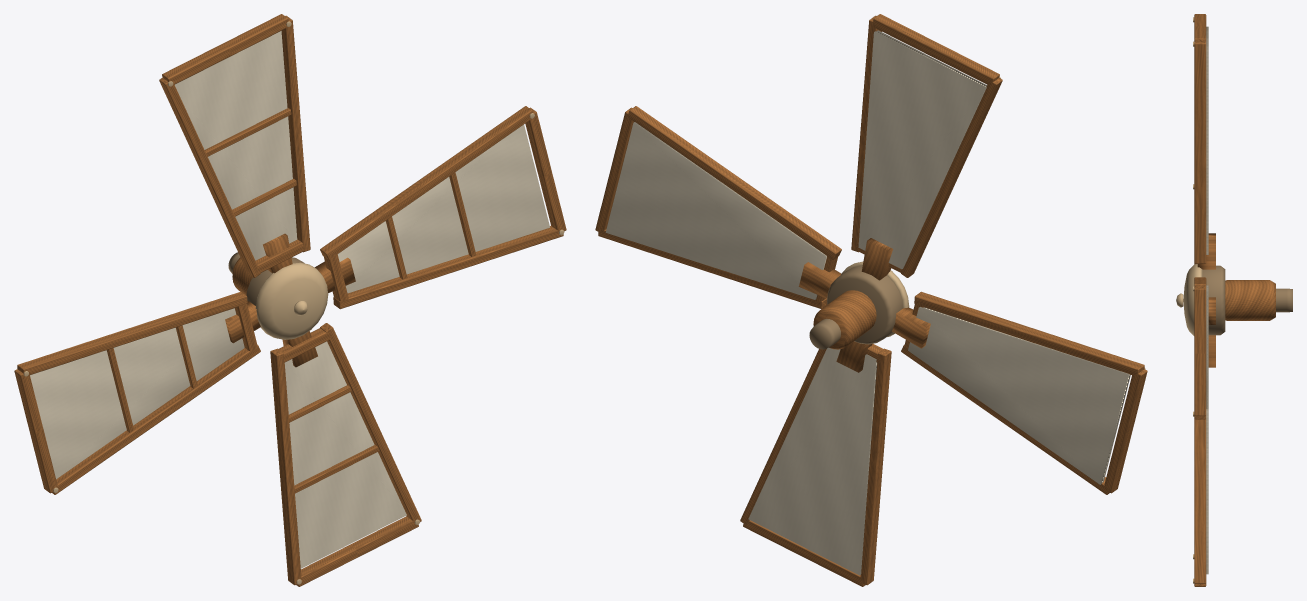
File: wind_rotor.glb
The picture shows the model from 3 angles, left to right: view 1: azimuth 30°, elevation 25°; view 2: azimuth 150°, elevation 25°; view 3: azimuth 270°, elevation 25°; orthographic projection. The views are drawn at different scales.
Visible parts, largest first — view 1: Canvas, Frame, Brass; view 2: Canvas, Frame, BrassDark; view 3: Frame, Canvas, BrassDark, Brass.
Part boxes in pixels (x1,y1,x2,y2): Canvas: (30, 31, 549, 568); Frame: (14, 14, 566, 586); Brass: (23, 21, 564, 584); Canvas: (605, 30, 1130, 575); Frame: (595, 14, 1147, 586); BrassDark: (809, 265, 903, 349); Frame: (1194, 14, 1275, 586); Canvas: (1206, 26, 1208, 574); BrassDark: (1202, 265, 1292, 335); Brass: (1176, 17, 1202, 583).
Size of the model in its own units: 0.4755 by 0.4755 by 0.097.
Materials: 4 (2 with a texture image).
